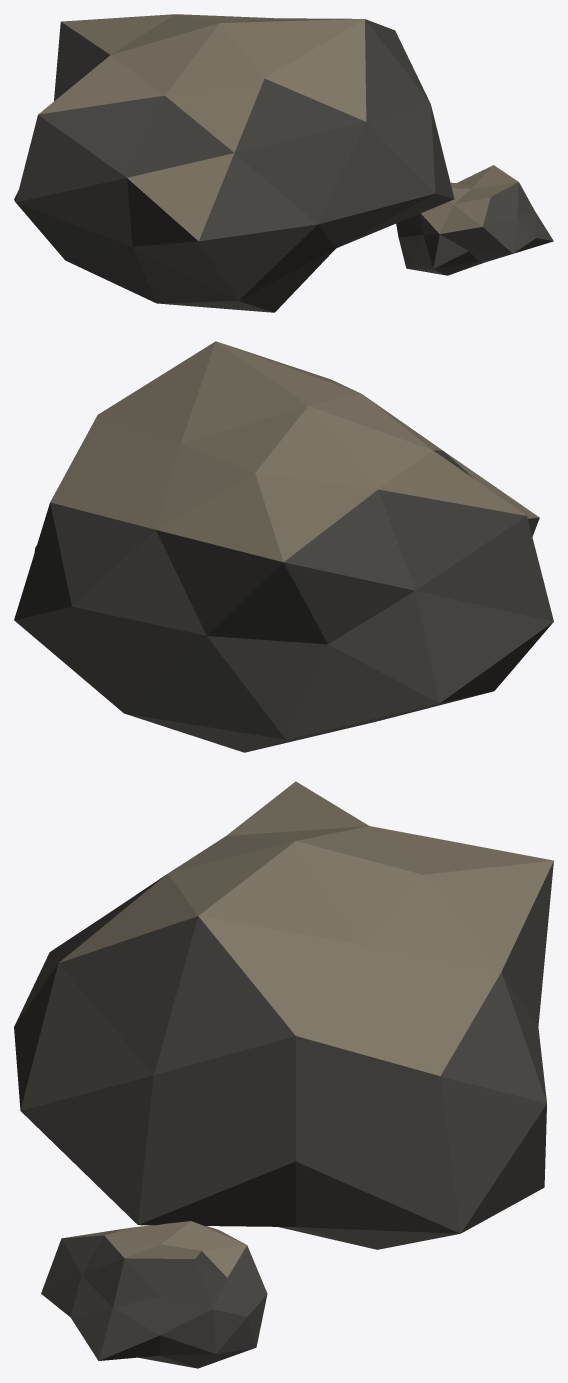
The model's file is pq_rock-small.obj.
3 renders of one model, top to bottom at view 1: azimuth 30°, elevation 25°; view 2: azimuth 150°, elevation 25°; view 3: azimuth 270°, elevation 25°, orthographic. The views are drawn at different scales.
Parts seen in each view (by area): view 1: Small rock, Small rock_1; view 2: Small rock, Small rock_1; view 3: Small rock, Small rock_1.
Part boxes in pixels (x1,y1,x2,y2): Small rock: (14,19,553,312); Small rock_1: (38,14,518,241); Small rock: (14,450,553,752); Small rock_1: (50,341,539,562); Small rock: (14,861,553,1368); Small rock_1: (59,781,553,1277).
Size of the model in its own units: 0.69 by 0.3532 by 0.4784.
